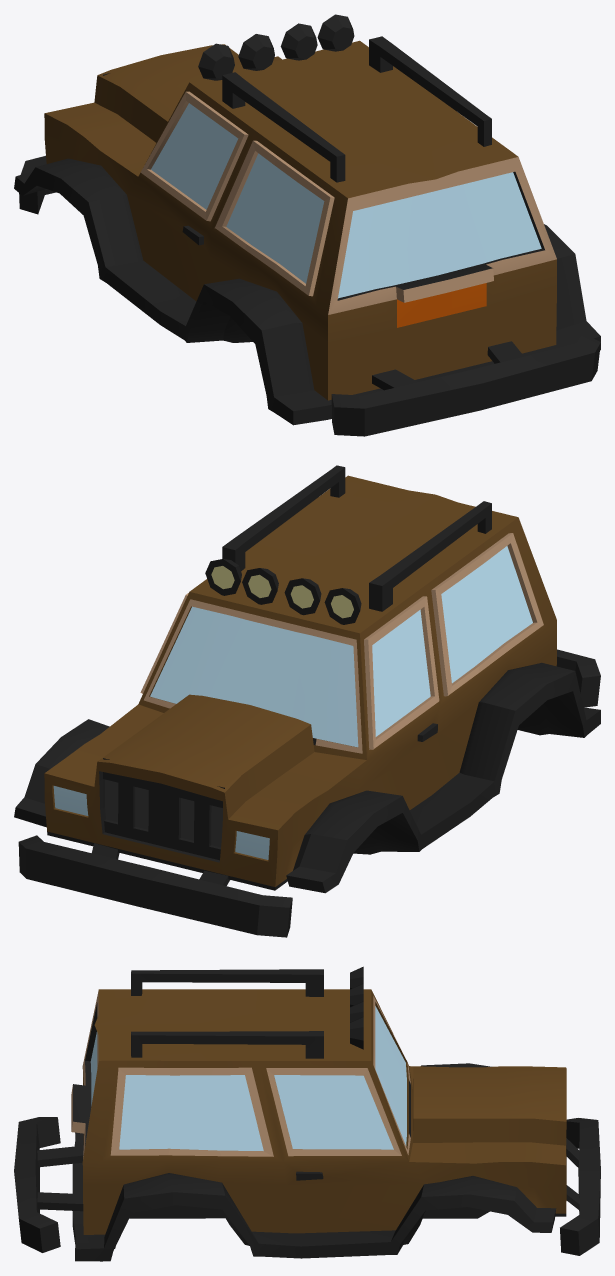
The model's file is jeep_body3.glb.
3 renders of one model, top to bottom at view 1: azimuth 30°, elevation 25°; view 2: azimuth 150°, elevation 25°; view 3: azimuth 270°, elevation 25°, orthographic. The views are drawn at different scales.
Visible parts, largest first — view 1: jeep_body; view 2: jeep_body; view 3: jeep_body.
Boxes of the visible parts, x1=… form: jeep_body: x1=14, y1=14, x2=600, y2=436; jeep_body: x1=14, y1=465, x2=600, y2=937; jeep_body: x1=14, y1=966, x2=600, y2=1261.
Bounding box in the file's own units: 1.72 × 1.24 × 3.19.
Materials: 1 (1 with a texture image).
